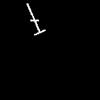double_crochet: (27, 4, 44, 34)
